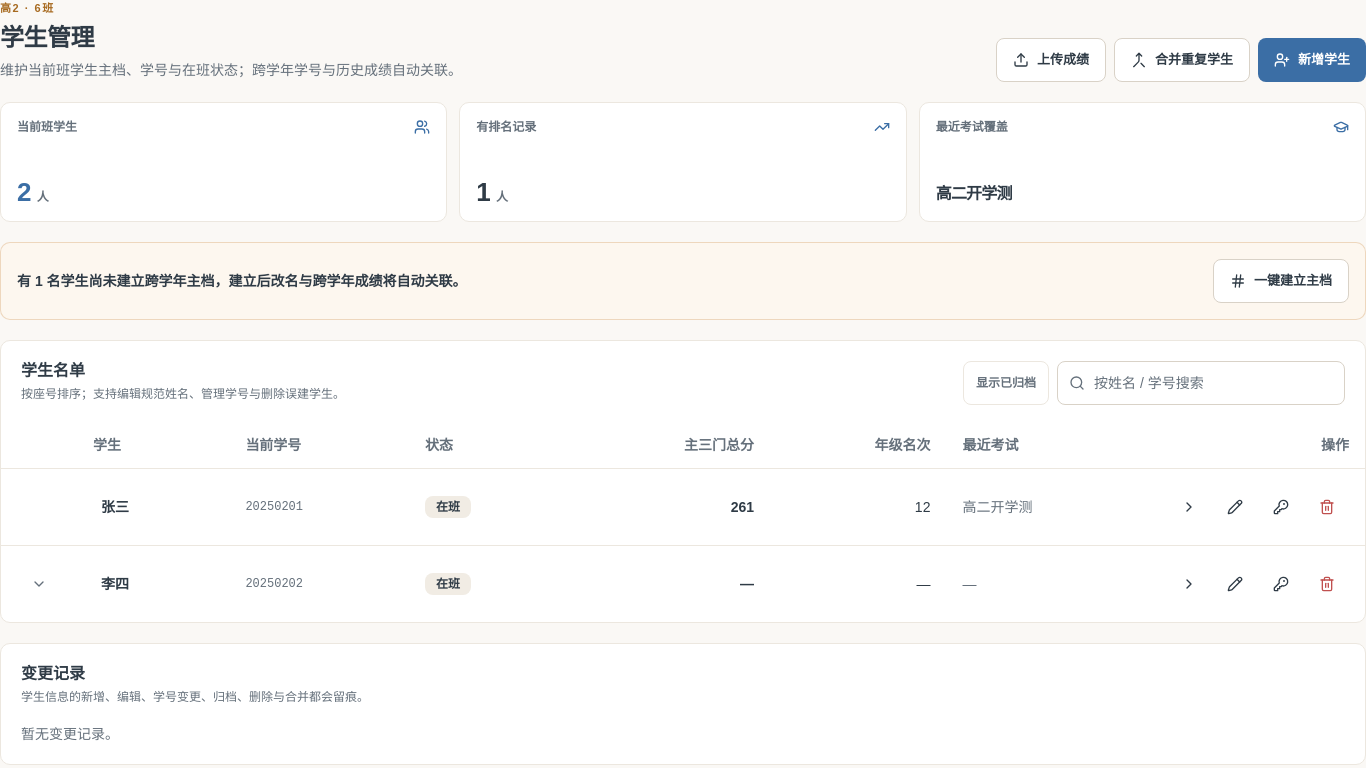
it: StudentManagePage 契约 › 纠正学号：成功后关闭对话框并刷新名单
This screenshot has width=1366, height=768.
Click the button named "学号管理张三" at (1281, 507), box [1259, 485, 1303, 529]
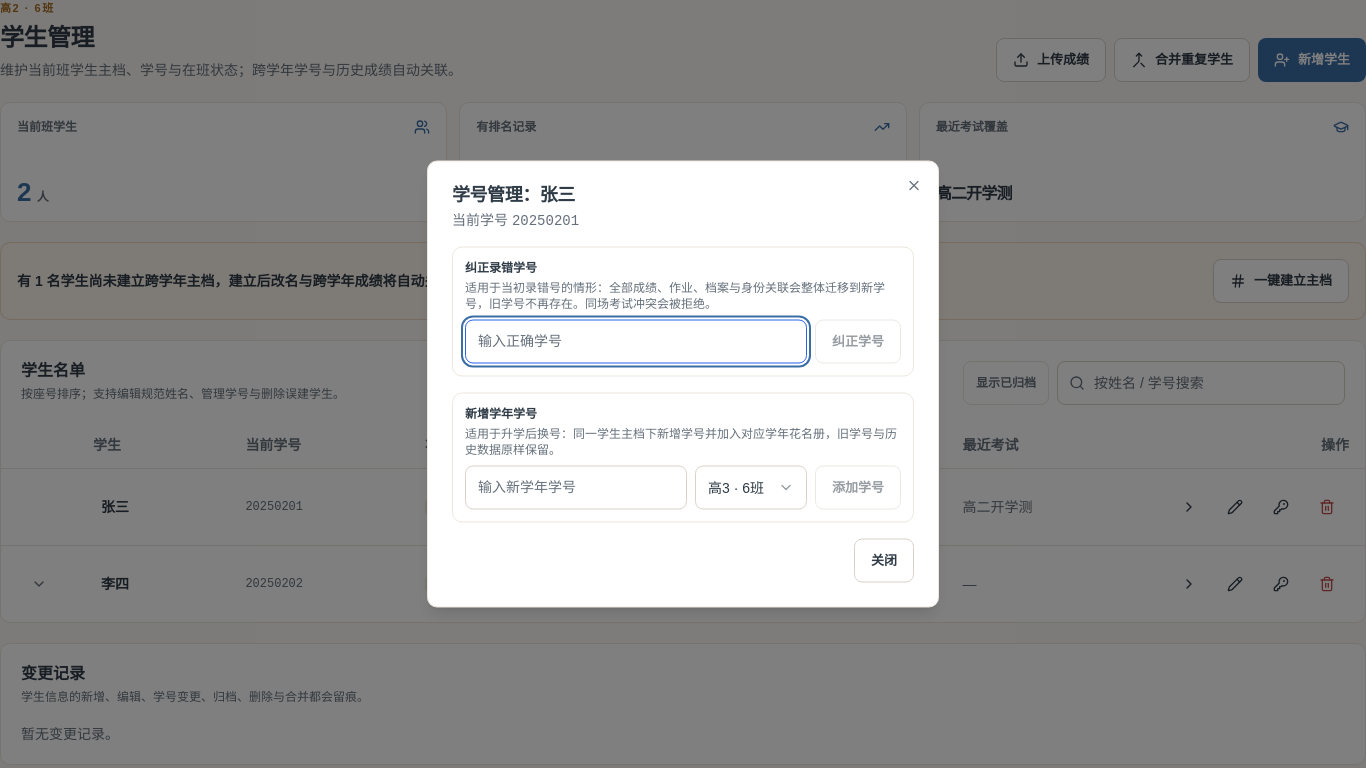
Type "20250215" into the field named "纠正后的新学号" at (636, 342), box [465, 320, 807, 364]
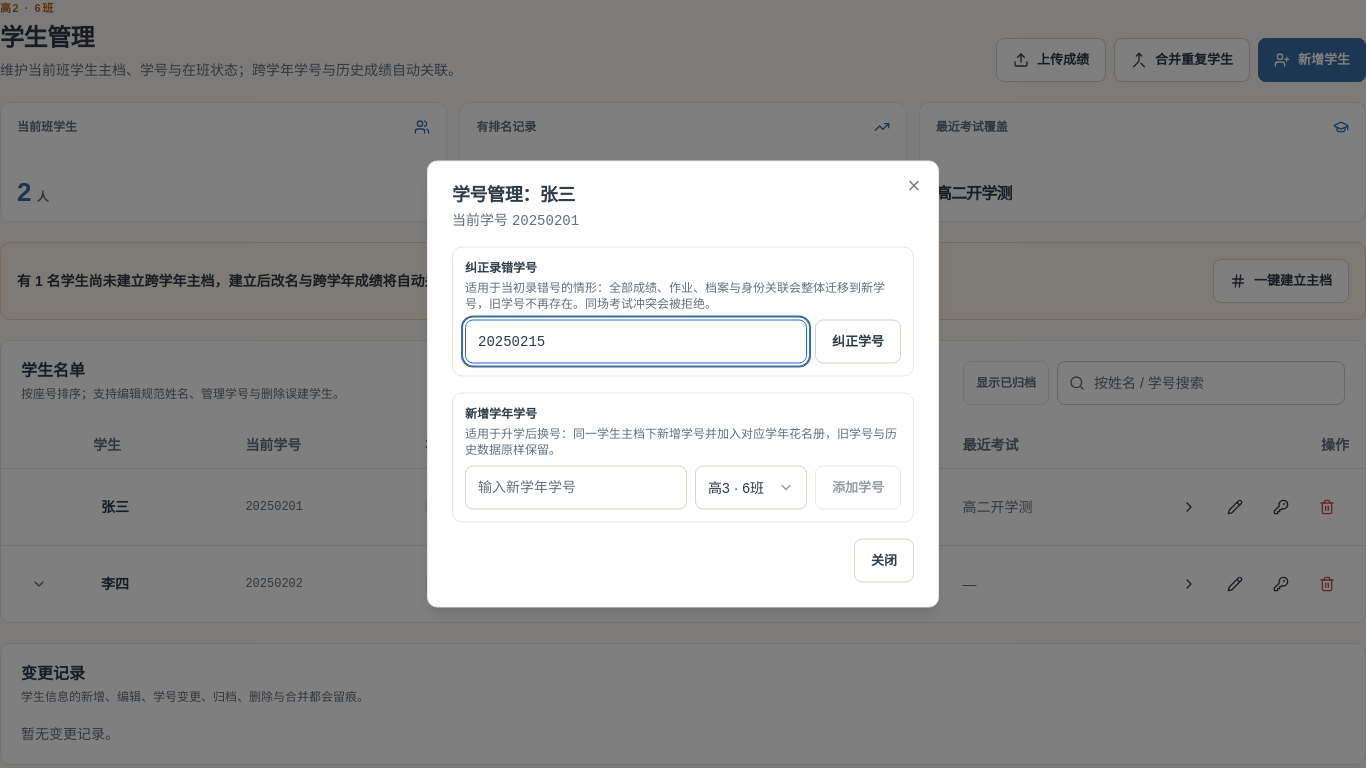
Click the button "纠正学号" at (858, 342), box [815, 320, 901, 364]
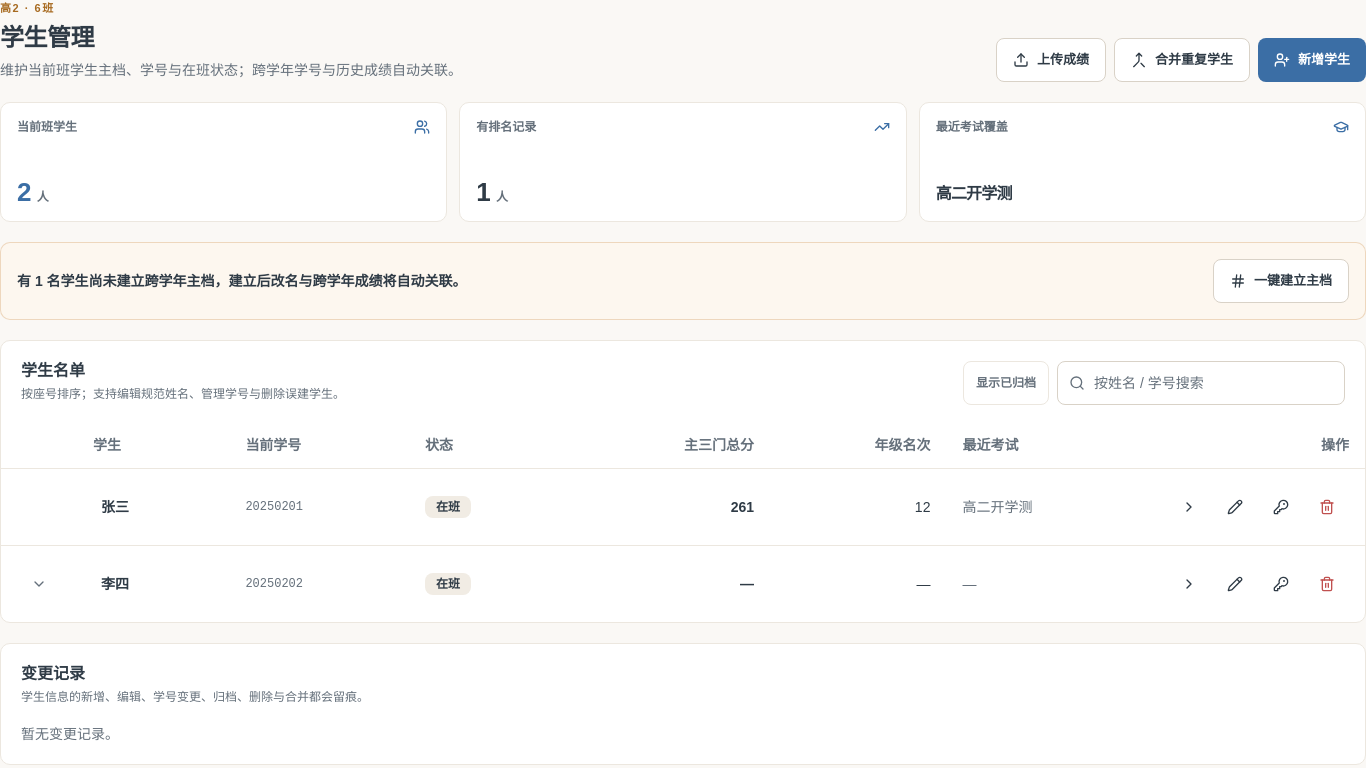
Now the field labelled "纠正后的新学号" is gone
